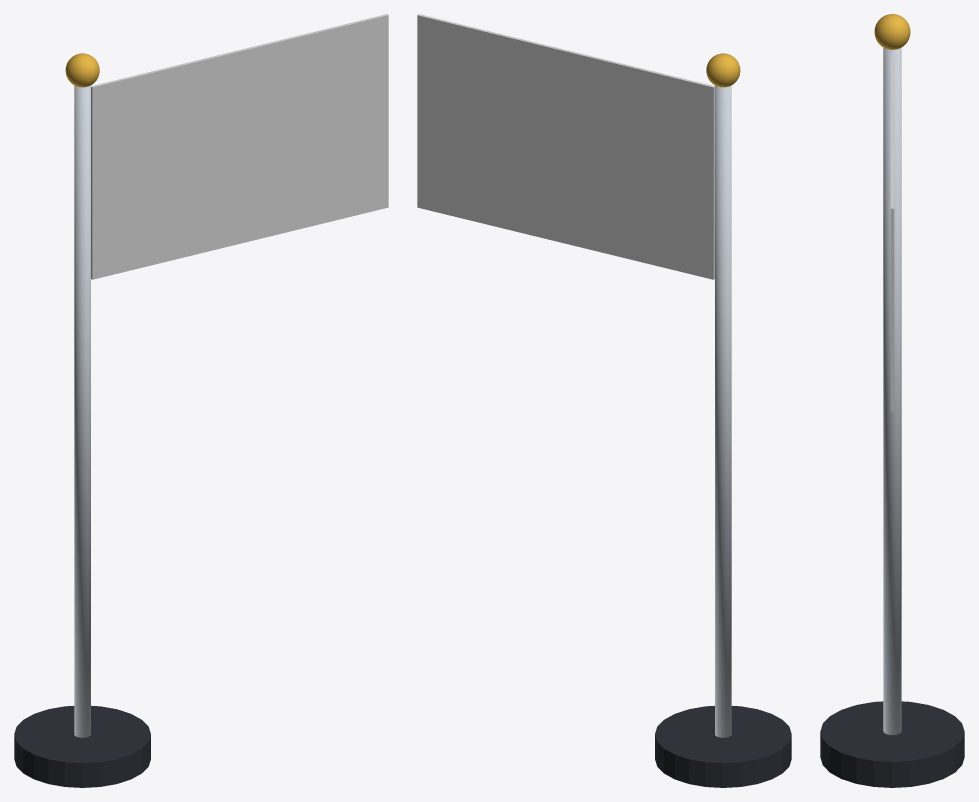
The model's file is bandera.glb.
3 renders of one model, left to right at view 1: azimuth 30°, elevation 25°; view 2: azimuth 150°, elevation 25°; view 3: azimuth 270°, elevation 25°, orthographic. The views are drawn at different scales.
Parts seen in each view (by area): view 1: tela, Cylinder.001, Cylinder, Sphere; view 2: tela, Cylinder.001, Cylinder, Sphere; view 3: Cylinder.001, Cylinder, tela, Sphere.
Boxes of the visible parts, x1,y1,x2,y2 form: tela: (91,14,388,279); Cylinder.001: (74,85,90,737); Cylinder: (14,705,150,787); Sphere: (65,53,99,87); tela: (417,14,714,279); Cylinder.001: (715,85,731,737); Cylinder: (655,705,791,787); Sphere: (706,53,740,87); Cylinder.001: (883,47,901,734); Cylinder: (820,701,964,787); tela: (890,56,894,411); Sphere: (874,14,910,49).
Bounding box in the file's own units: 1.23 × 2.27 × 0.4.
